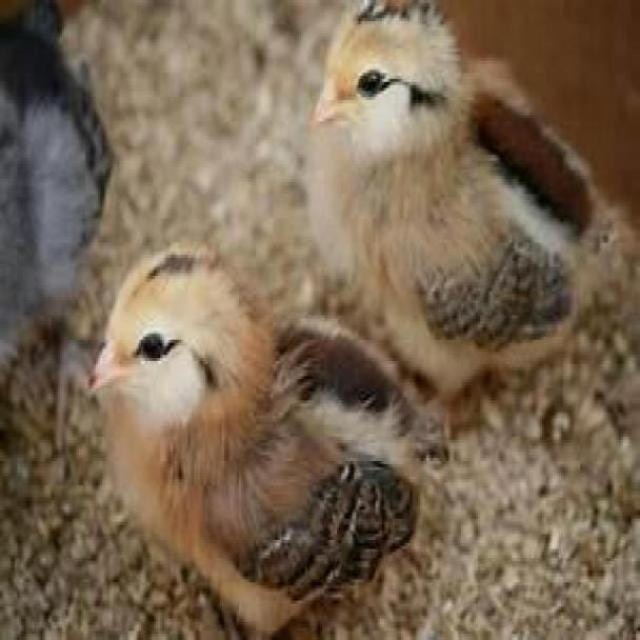Chicken: (85, 236, 450, 640), (305, 0, 618, 397)
